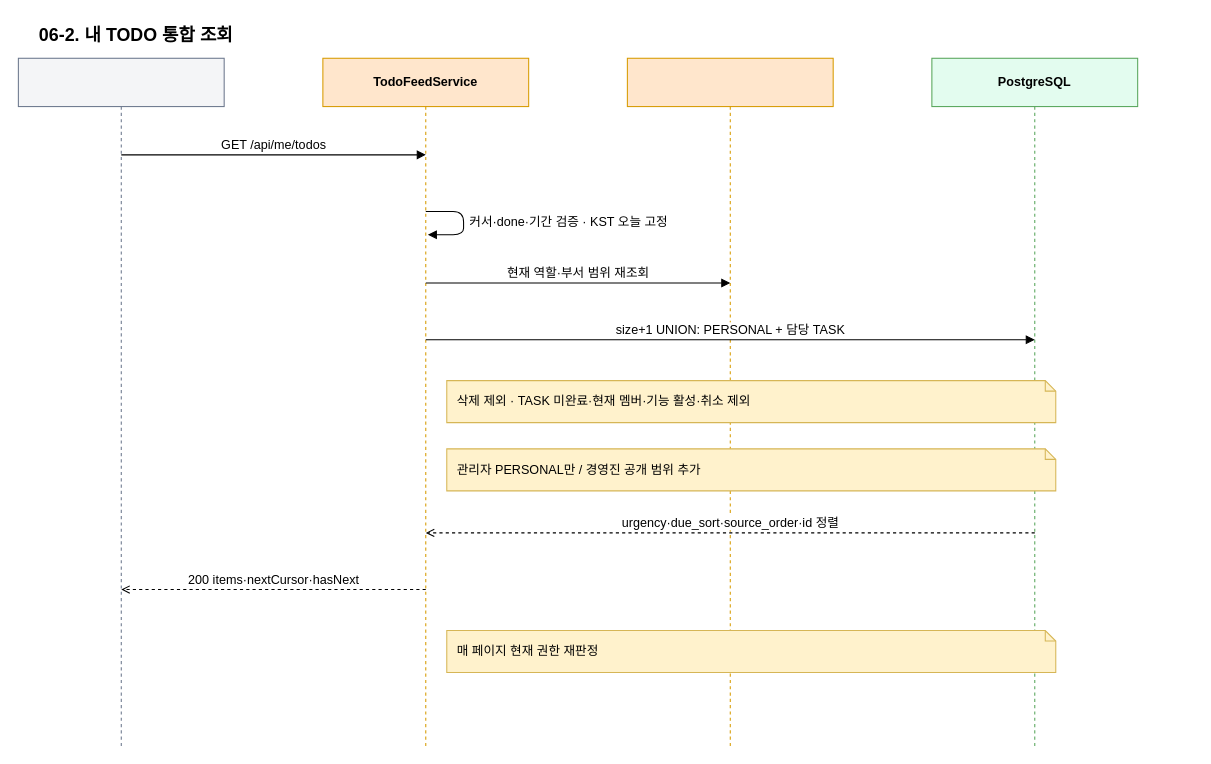
Image size: 1211x764. Some labels were removed from this diagram. The box of each missing label's shape, as (x1, y1, x2, y2) in pixels:
Access / Visibility: (626, 57, 833, 746)
FE / Controller: (17, 57, 224, 746)
